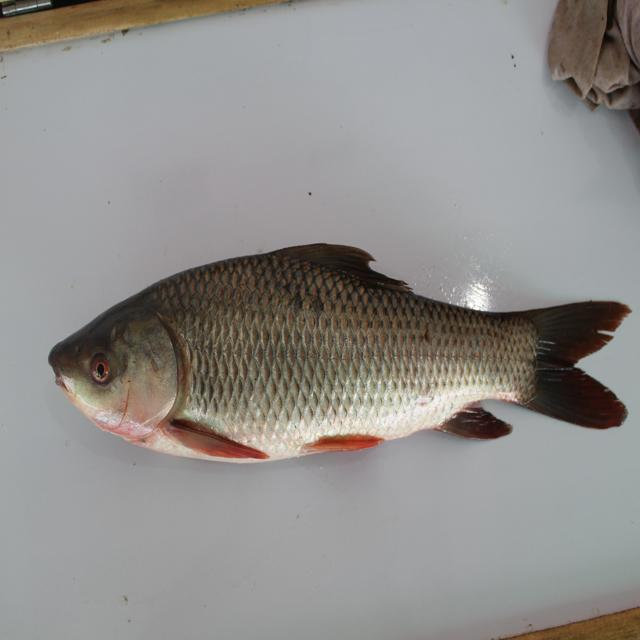Rohu: (41, 248, 633, 459)
